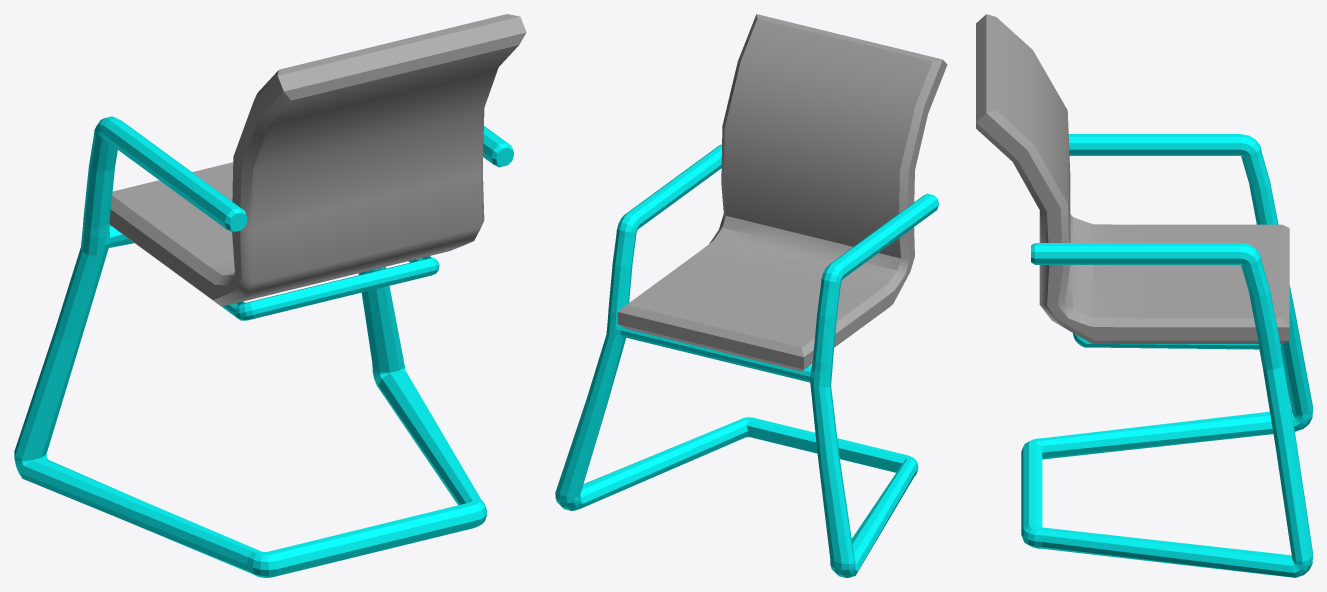
File: chair_v2.fbx
3 views of the same model, side by side, from view 1: azimuth 30°, elevation 25°; view 2: azimuth 150°, elevation 25°; view 3: azimuth 270°, elevation 25° (orthographic). The views are drawn at different scales.
Parts seen in each view (by area): view 1: Silla_V3; view 2: Silla_V3; view 3: Silla_V3.
Part boxes in pixels (x1=…): Silla_V3: x1=14, y1=14, x2=526, y2=577; Silla_V3: x1=555, y1=14, x2=947, y2=577; Silla_V3: x1=976, y1=14, x2=1312, y2=577.
Bounding box in the file's own units: 1.81 × 2.34 × 1.63.
